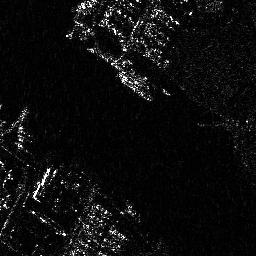ship: (115, 70, 152, 100)
